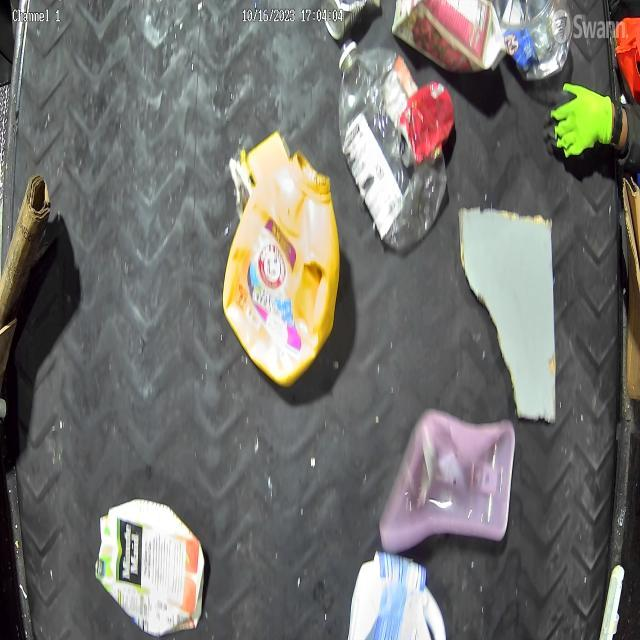can: (390, 78, 454, 166)
milk_jug: (92, 499, 207, 622)
non_white_jug: (218, 130, 338, 372), (387, 404, 520, 544)
plastic_bottle: (334, 38, 449, 255), (502, 0, 574, 85)
